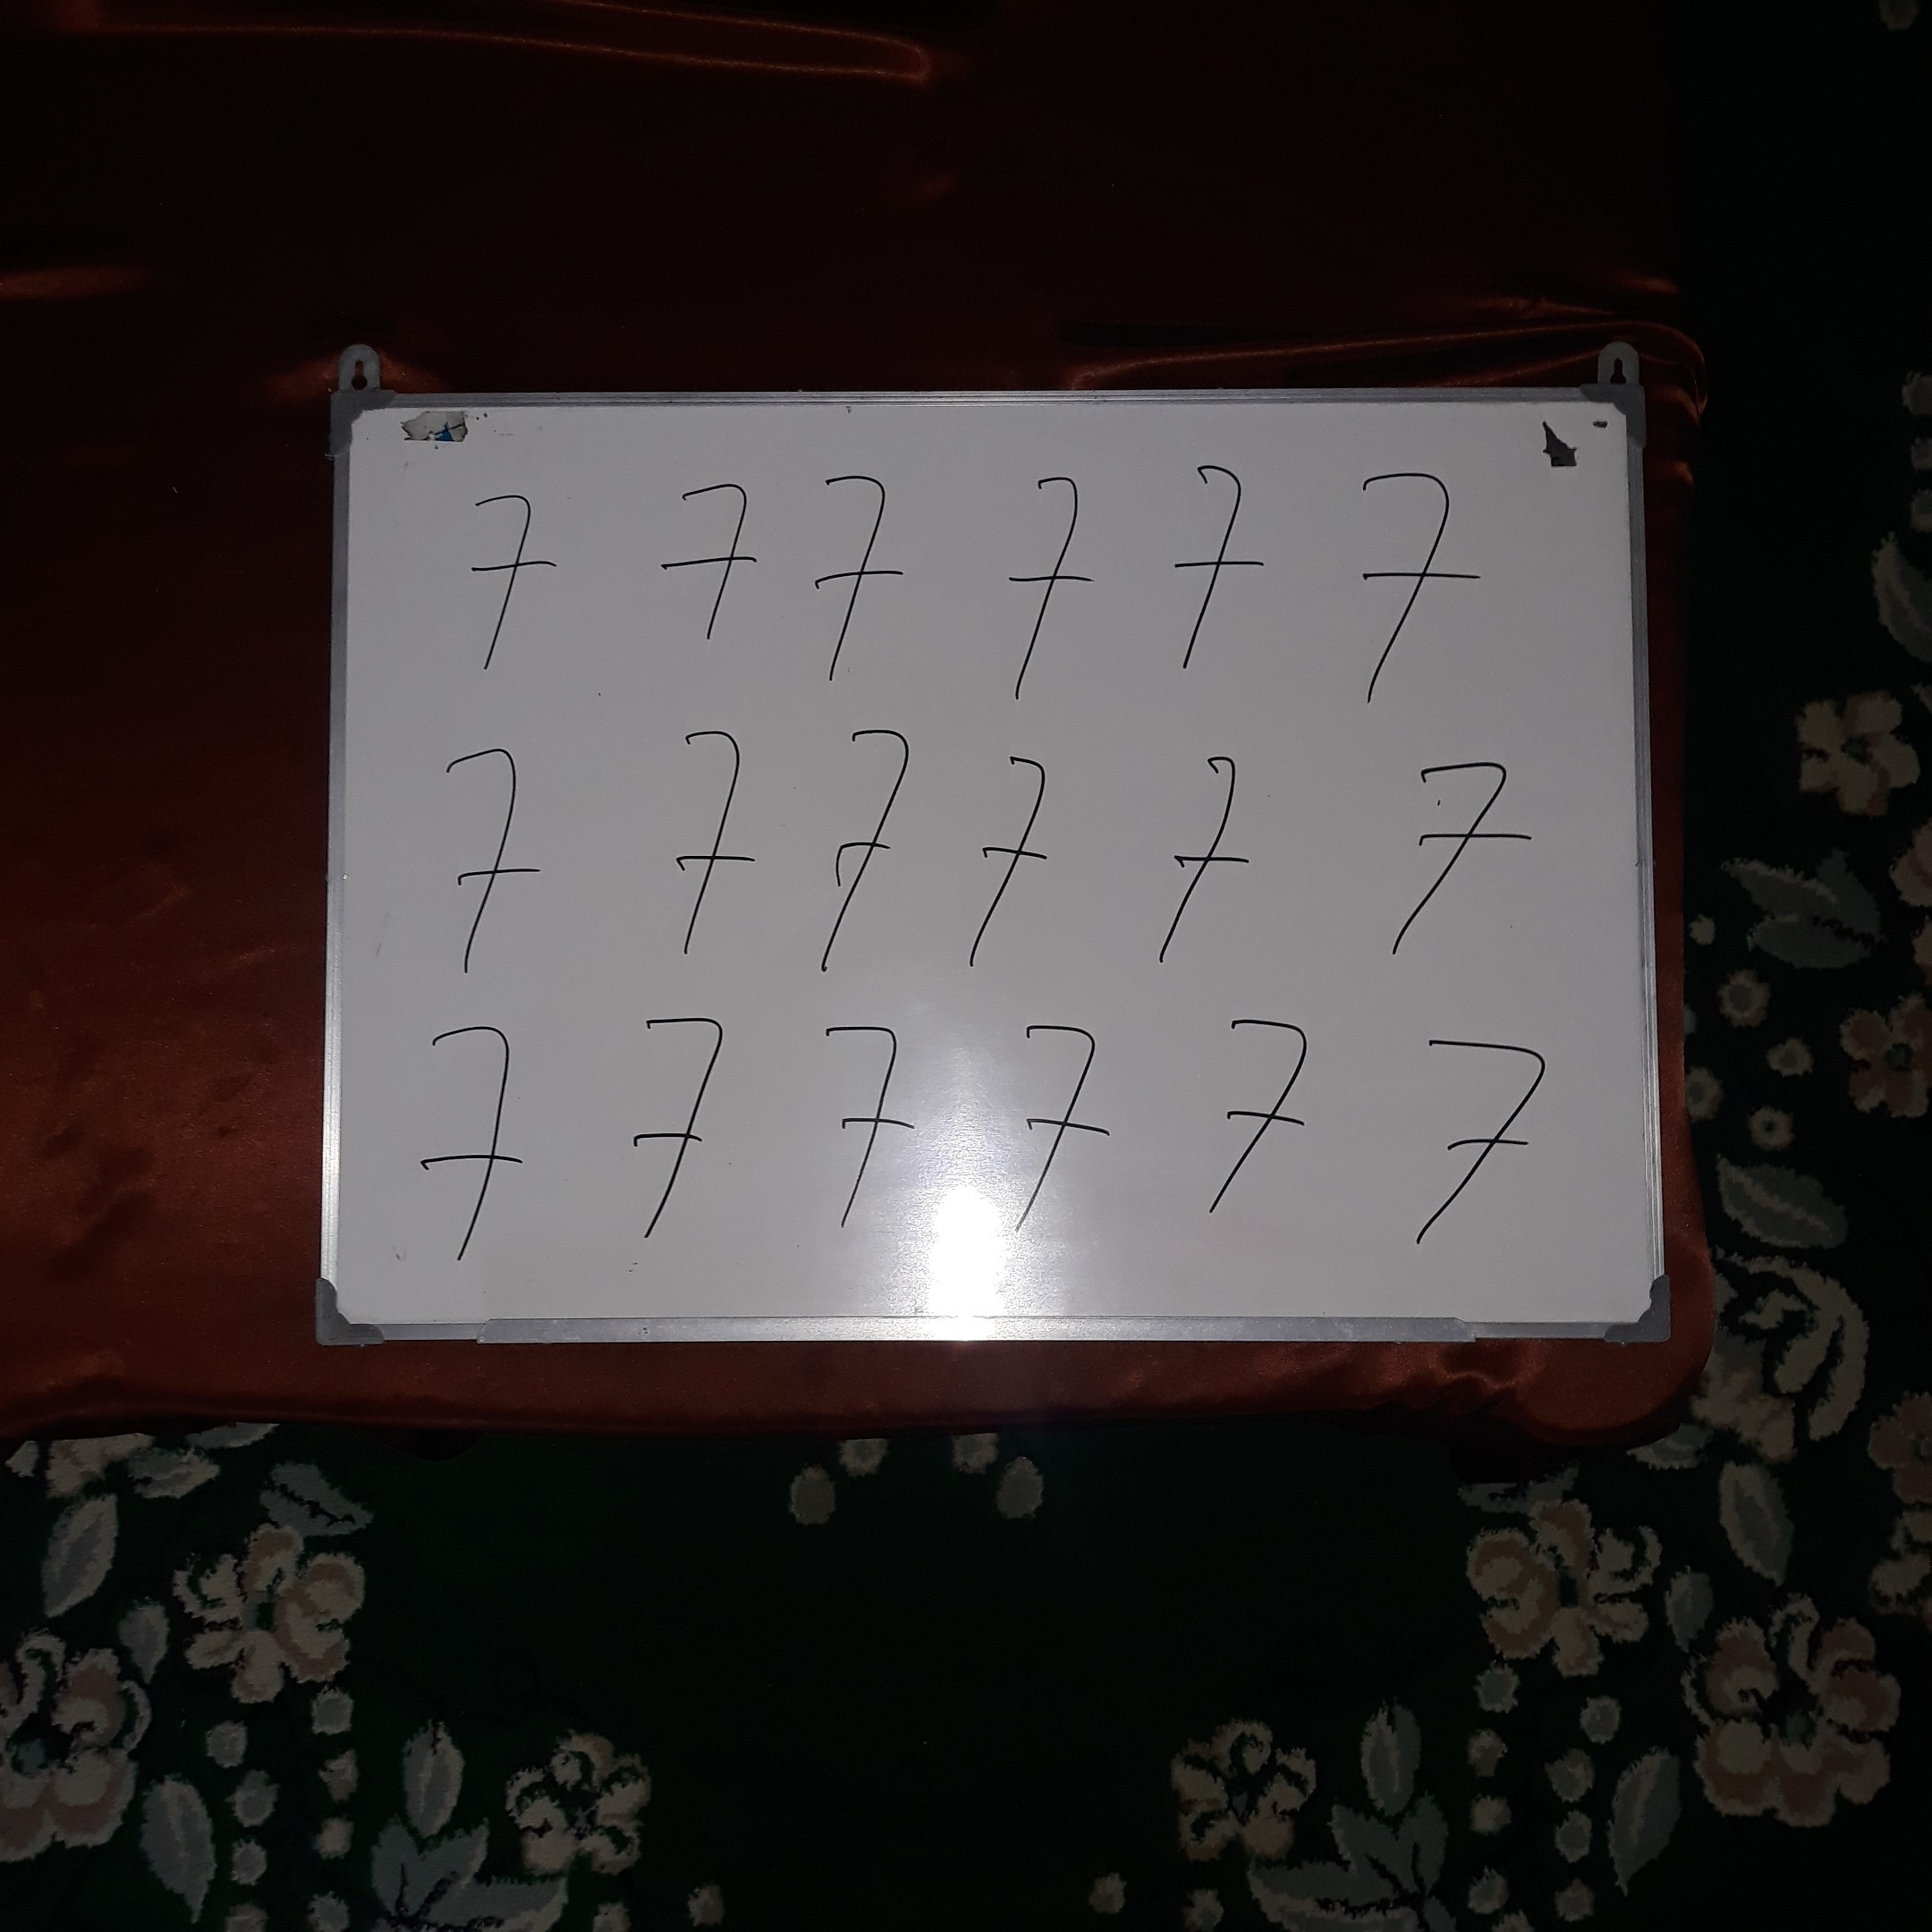num7: (1383, 1021, 1575, 1275), (402, 1011, 563, 1291), (1190, 998, 1350, 1238), (1377, 750, 1541, 978), (614, 1011, 760, 1257), (1352, 455, 1491, 711), (990, 1009, 1137, 1238), (811, 713, 932, 992), (645, 720, 779, 973), (1133, 746, 1276, 983), (435, 744, 569, 987), (801, 1018, 937, 1255), (996, 469, 1116, 720), (1159, 453, 1279, 685), (449, 484, 583, 691), (970, 748, 1081, 988), (809, 463, 917, 696), (647, 469, 774, 655)
